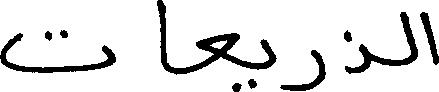X: (0, 25, 115, 77), (198, 28, 239, 91), (283, 45, 325, 91), (346, 25, 369, 78), (420, 7, 438, 69), (401, 7, 415, 69), (157, 0, 166, 75), (260, 34, 275, 73)
